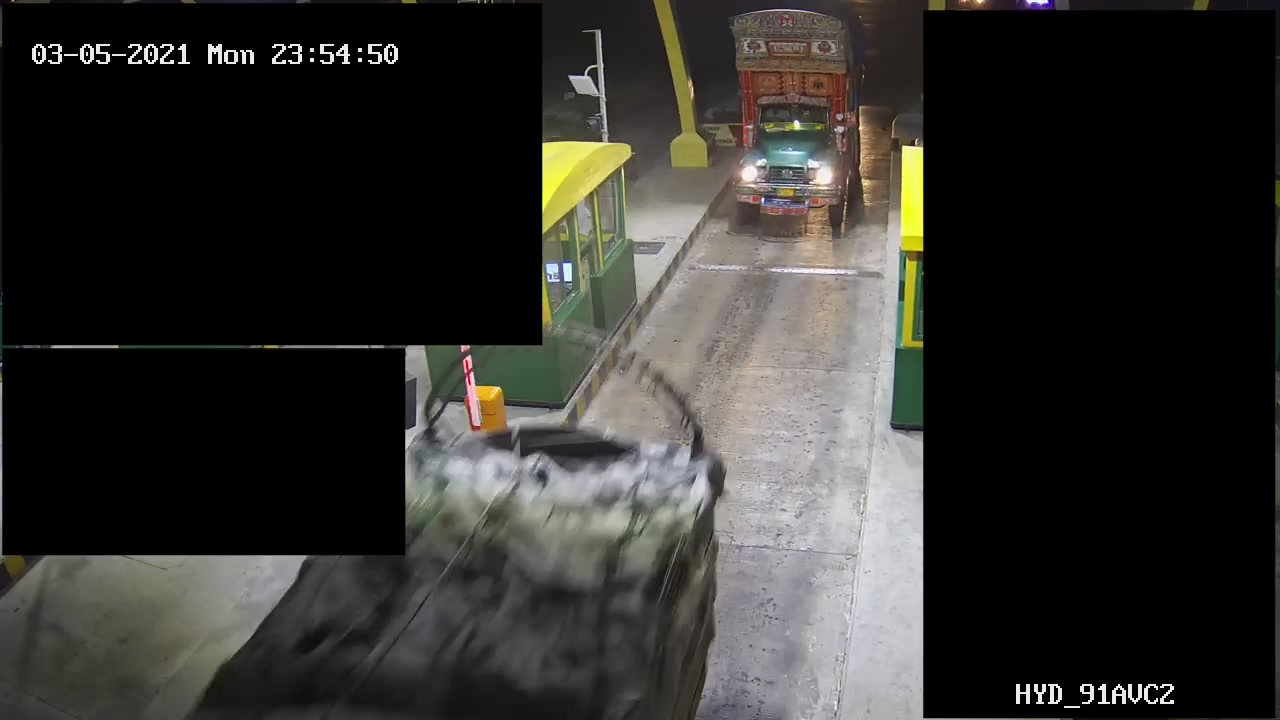F5: (733, 1, 868, 234)
